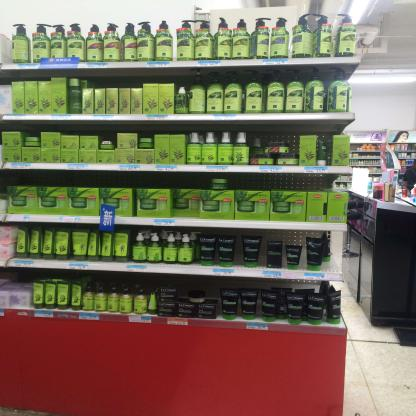Void: (5, 172, 206, 184), (233, 176, 328, 188), (93, 72, 138, 86), (264, 121, 295, 136), (69, 123, 101, 135), (319, 122, 344, 134), (12, 272, 30, 283), (157, 124, 182, 130), (120, 123, 139, 130)
